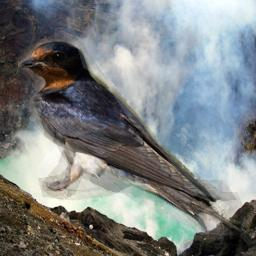Swallow: (18, 39, 253, 241)
